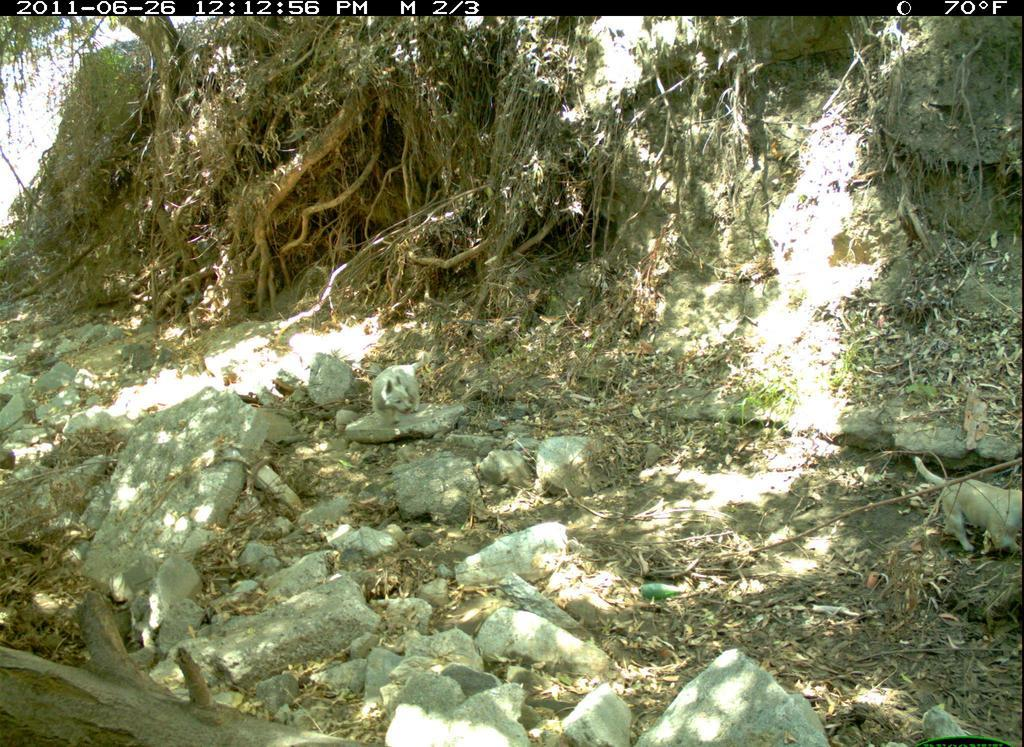dog: (909, 447, 1024, 565), (358, 353, 445, 420)
